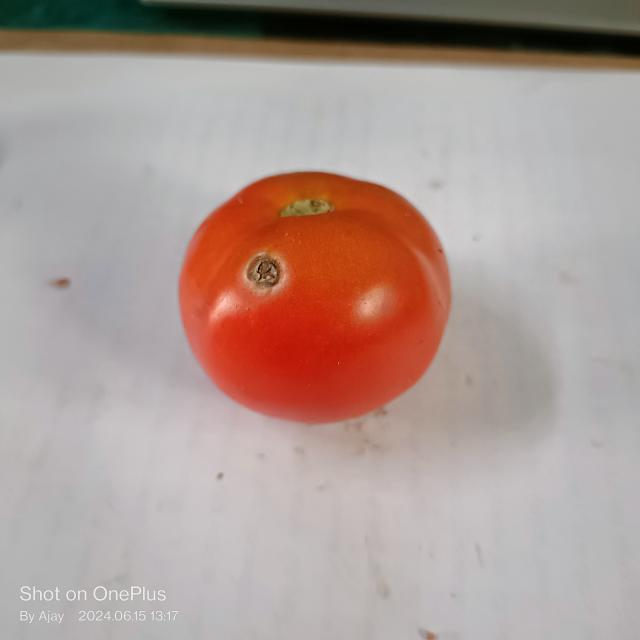Bacterial_Spot: (242, 254, 288, 292)
